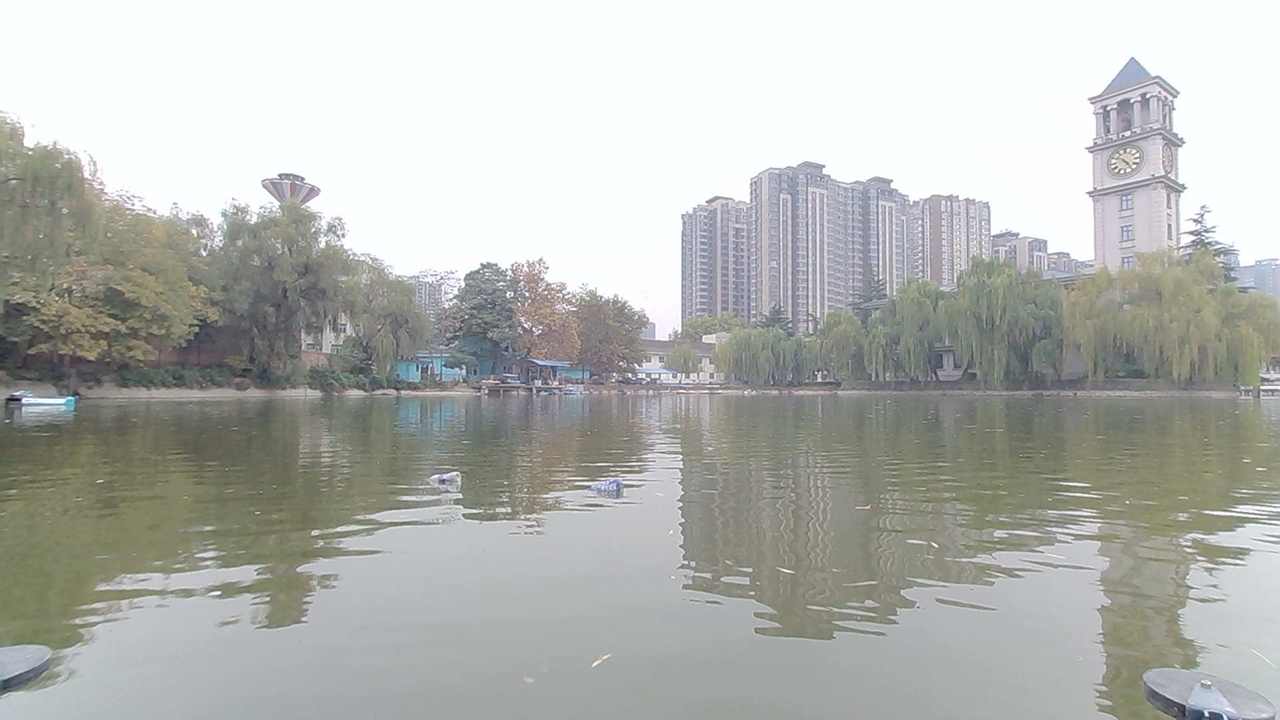bottle: (423, 466, 462, 492), (594, 480, 627, 497)
